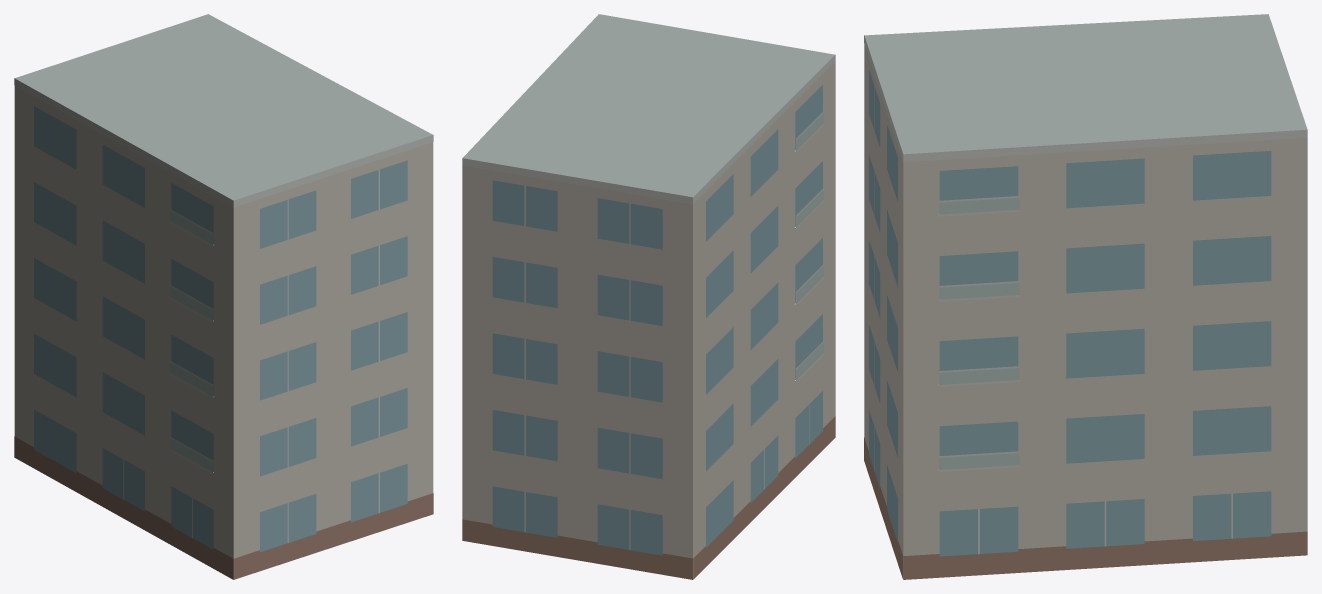
The model's file is survey-upis-32882755.glb.
3 renders of one model, left to right at view 1: azimuth 30°, elevation 25°; view 2: azimuth 150°, elevation 25°; view 3: azimuth 270°, elevation 25°, orthographic. The views are drawn at different scales.
Parts seen in each view (by area): view 1: survey-upis-32882755.tmp; view 2: survey-upis-32882755.tmp; view 3: survey-upis-32882755.tmp.
Part boxes in pixels (x1=…): survey-upis-32882755.tmp: x1=14, y1=14, x2=433, y2=579; survey-upis-32882755.tmp: x1=462, y1=14, x2=835, y2=579; survey-upis-32882755.tmp: x1=864, y1=14, x2=1307, y2=579.
Bounding box in the file's own units: 9.34 × 13.2 × 12.47.
